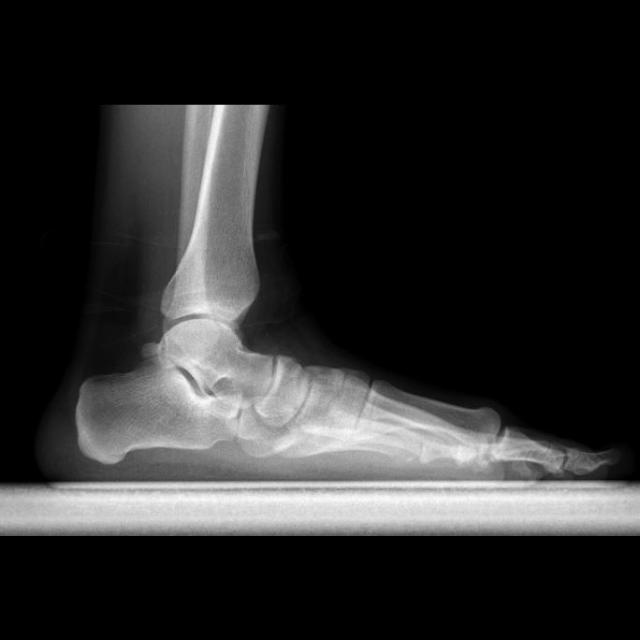a: (76, 362, 243, 465)
b: (259, 357, 314, 429)
c: (349, 380, 502, 449)
